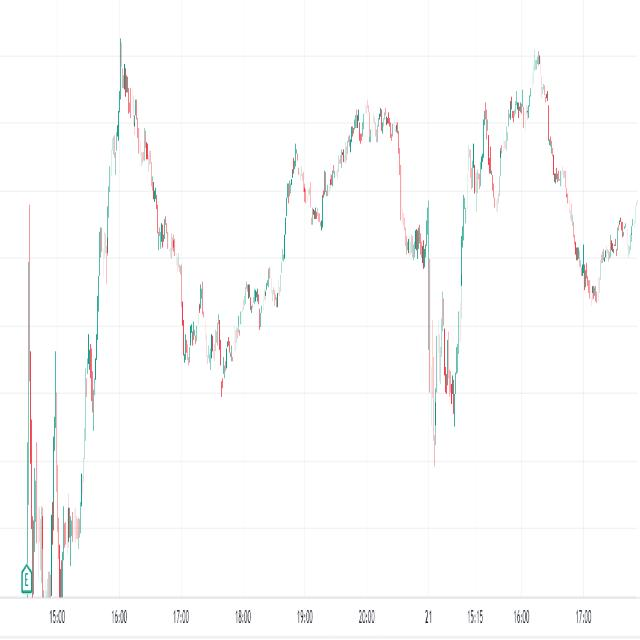Channel-down: (111, 0, 192, 333)
